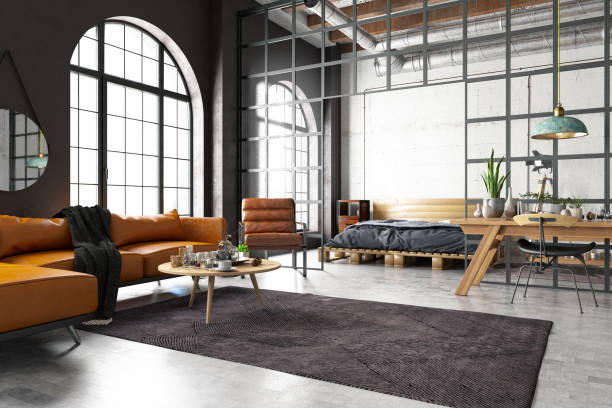chair: (508, 211, 601, 316), (238, 194, 310, 277)
small plant: (477, 150, 508, 216), (233, 241, 249, 259)
sofa: (0, 209, 230, 349)
table: (156, 251, 280, 325)
